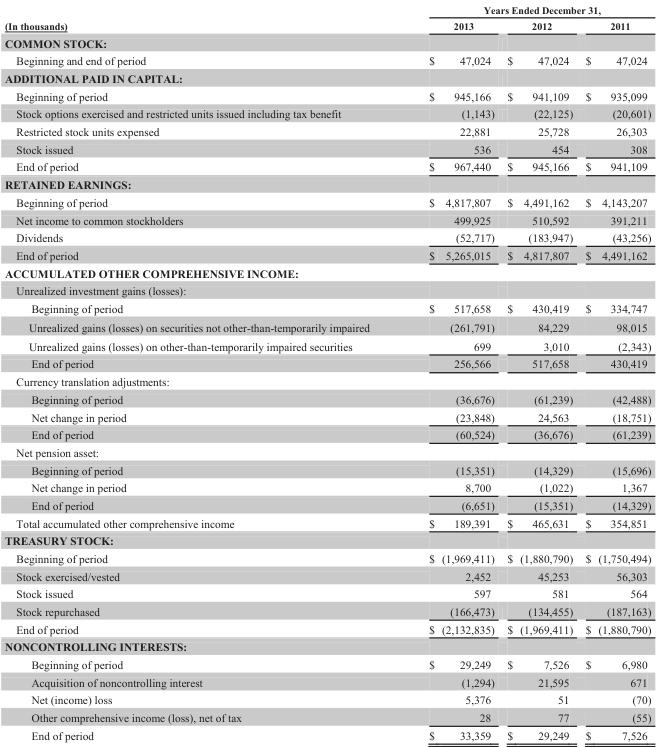table: (3, 4, 650, 741)
table column: (3, 4, 398, 741), (398, 4, 500, 741), (500, 4, 578, 741), (578, 4, 650, 741)
table column header: (3, 4, 650, 34)
table projected row header: (3, 69, 650, 87), (3, 175, 650, 193), (3, 263, 650, 281), (3, 281, 650, 299), (3, 372, 650, 390), (3, 531, 650, 549), (3, 637, 650, 655), (3, 34, 650, 51), (3, 443, 650, 460)
table row: (3, 317, 650, 336), (3, 51, 650, 69), (3, 69, 650, 87), (3, 104, 650, 122), (3, 122, 650, 140), (3, 157, 650, 175), (3, 175, 650, 193), (3, 210, 650, 228), (3, 228, 650, 246), (3, 263, 650, 281), (3, 281, 650, 299), (3, 299, 650, 317), (3, 336, 650, 354), (3, 354, 650, 372), (3, 372, 650, 390), (3, 407, 650, 425), (3, 425, 650, 443), (3, 460, 650, 478), (3, 478, 650, 496), (3, 513, 650, 531), (3, 531, 650, 549), (3, 549, 650, 567), (3, 584, 650, 602), (3, 602, 650, 620), (3, 637, 650, 655), (3, 655, 650, 673), (3, 690, 650, 708), (3, 708, 650, 726), (3, 17, 650, 34), (3, 34, 650, 51), (3, 87, 650, 104), (3, 140, 650, 157), (3, 193, 650, 210), (3, 246, 650, 263), (3, 390, 650, 407), (3, 443, 650, 460), (3, 496, 650, 513), (3, 567, 650, 584), (3, 620, 650, 637), (3, 673, 650, 690), (3, 726, 650, 741), (3, 4, 650, 17)
table spanning cell: (3, 4, 398, 34), (398, 4, 650, 17)
